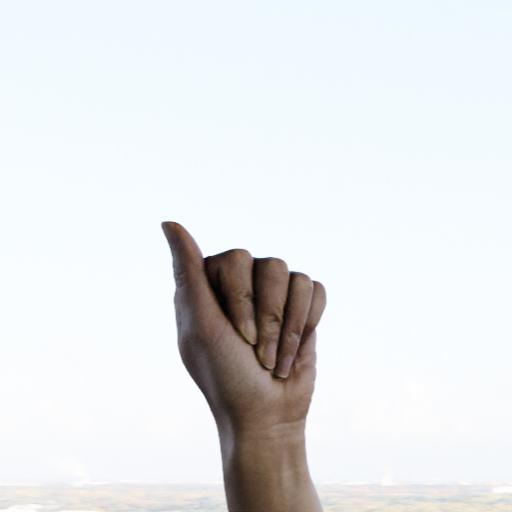A: (155, 219, 330, 419)
